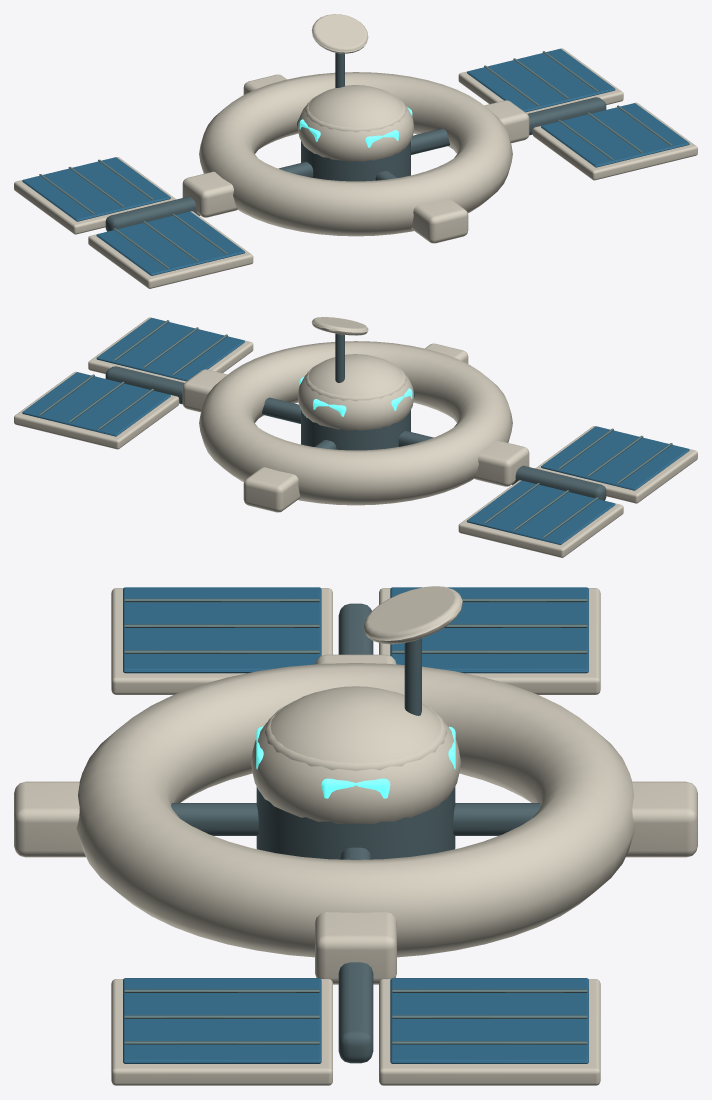
File: auto_explore.glb
The picture shows the model from 3 angles, top to bottom: view 1: azimuth 30°, elevation 25°; view 2: azimuth 150°, elevation 25°; view 3: azimuth 270°, elevation 25°; orthographic projection. The views are drawn at different scales.
Parts seen in each view (by area): view 1: Architecture, Hardware; view 2: Architecture, Hardware; view 3: Architecture, Hardware.
Boxes of the visible parts, x1,y1,x2,y2 form: Architecture: (14, 48, 697, 288); Hardware: (311, 14, 368, 87); Architecture: (14, 317, 697, 557); Hardware: (311, 317, 368, 382); Architecture: (14, 587, 697, 1085); Hardware: (364, 586, 462, 715).
Bounding box in the file's own units: 5.99 × 1.49 × 3.58.
